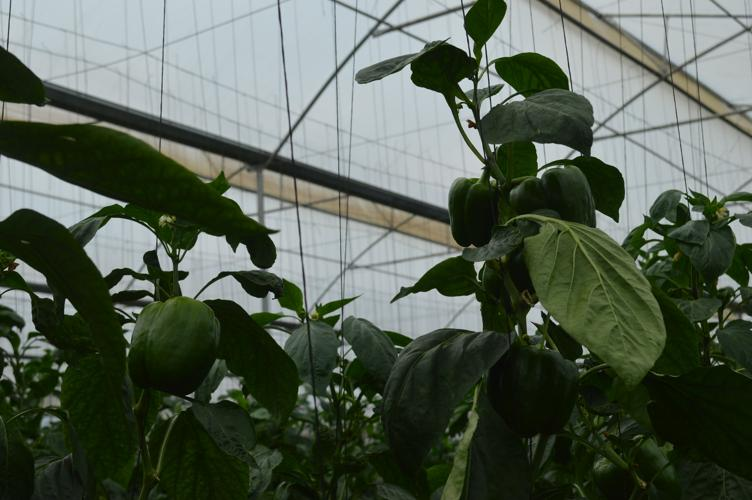BellPepper: (484, 339, 589, 448), (126, 294, 227, 398), (511, 162, 605, 233), (443, 171, 500, 250)
